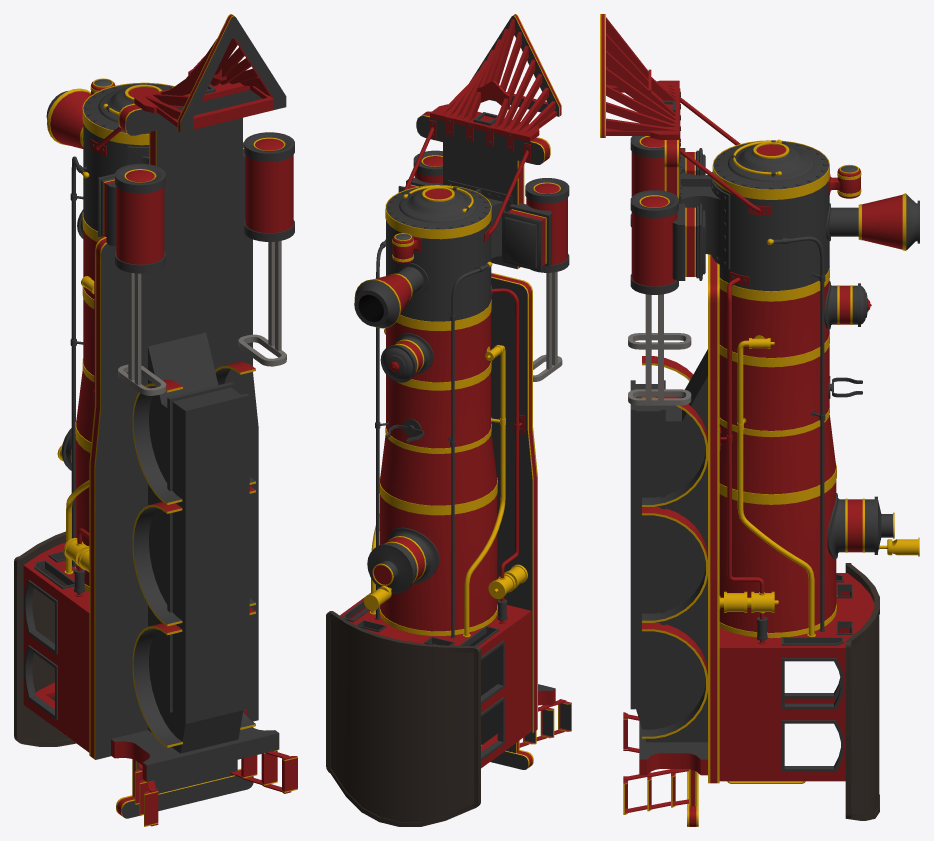
Rendered from SteamLocomotive_01_LOD0.fbx.
The picture shows the model from 3 angles, left to right: view 1: azimuth 30°, elevation 25°; view 2: azimuth 150°, elevation 25°; view 3: azimuth 270°, elevation 25°; orthographic projection. The views are drawn at different scales.
Visible parts, largest first — view 1: SteamLocomotive_01_LOD0; view 2: SteamLocomotive_01_LOD0; view 3: SteamLocomotive_01_LOD0.
Boxes of the visible parts, x1,y1,x2,y2 form: SteamLocomotive_01_LOD0: [14, 14, 297, 826]; SteamLocomotive_01_LOD0: [326, 14, 571, 826]; SteamLocomotive_01_LOD0: [600, 14, 919, 826].
Bounding box in the file's own units: 3.34 × 15.03 × 5.5.
